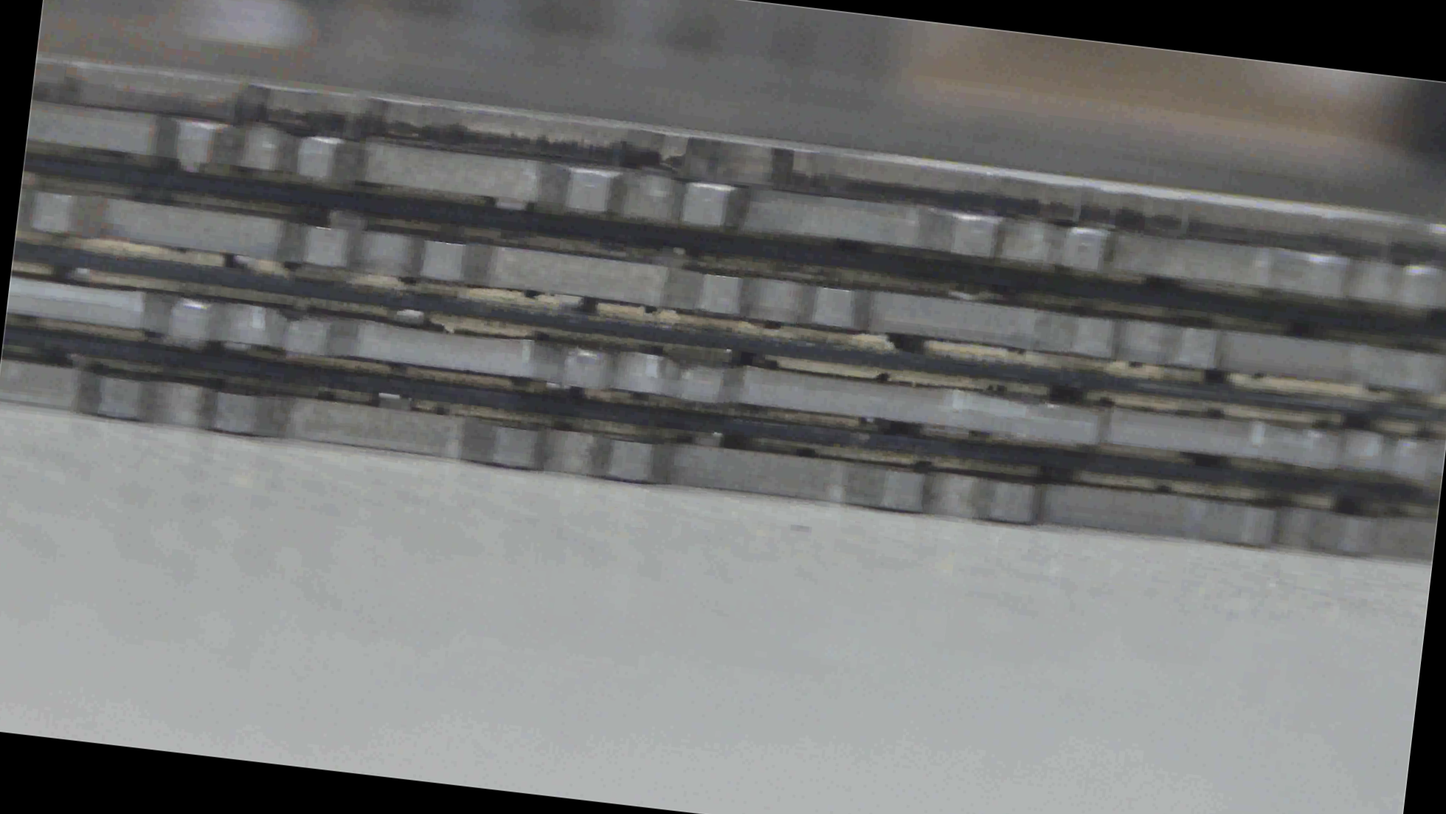Black metal plate: (0, 0, 1355, 378), (0, 437, 1445, 491)
shiney metal plate: (41, 66, 1446, 349), (0, 168, 1422, 417), (0, 357, 1445, 408)
spacer: (0, 27, 1367, 469), (0, 404, 1445, 437), (0, 325, 1443, 351)
